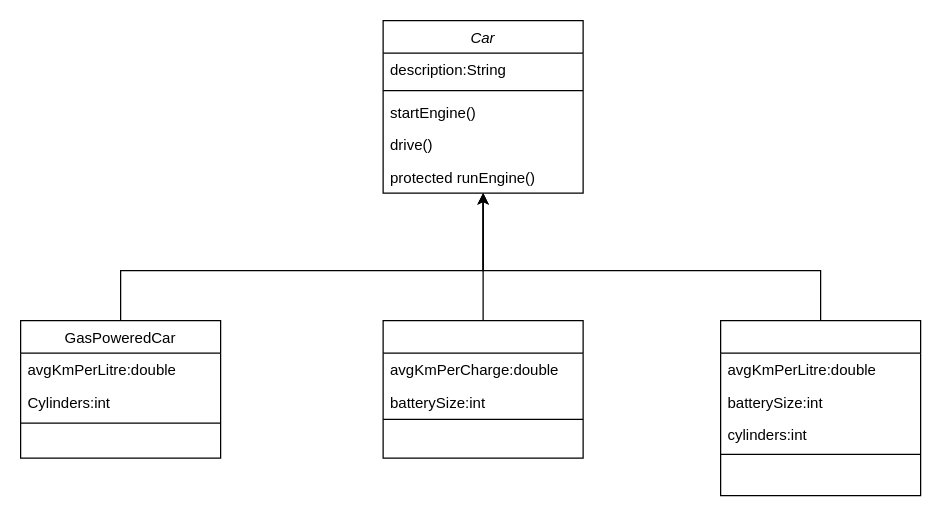
Some shapes in this 941 by 516 pixel diagram are drawn without their labels. The shapes that lost their labels are listed below. From the top down, each one's box as (x1, y1, x2, y2) in pixels, then its label:
(382, 319, 583, 458): ElectricCar
(719, 319, 921, 496): HybridCar
